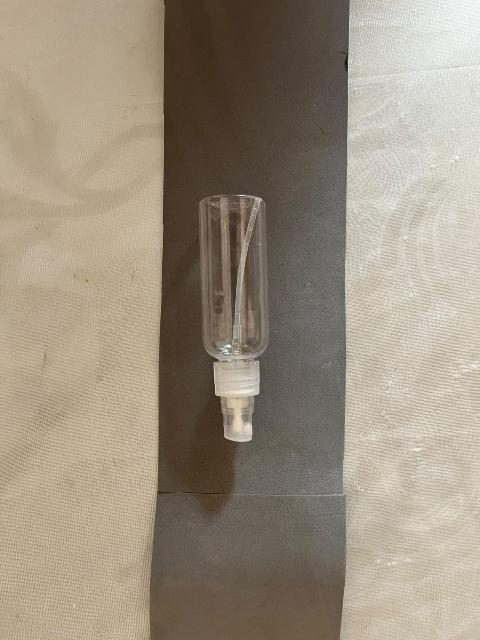PET: (188, 135, 291, 467)
